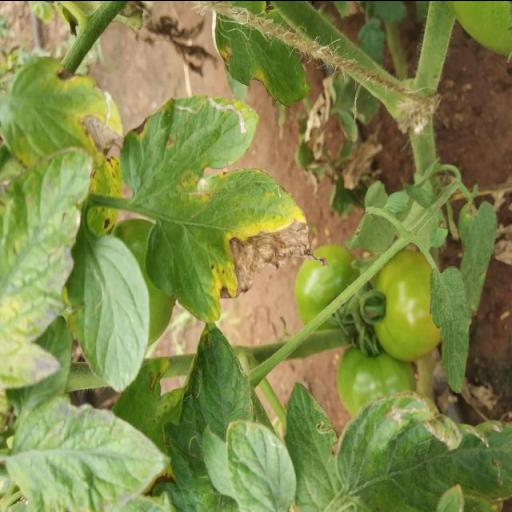disease_tomato: (140, 168, 332, 322)
